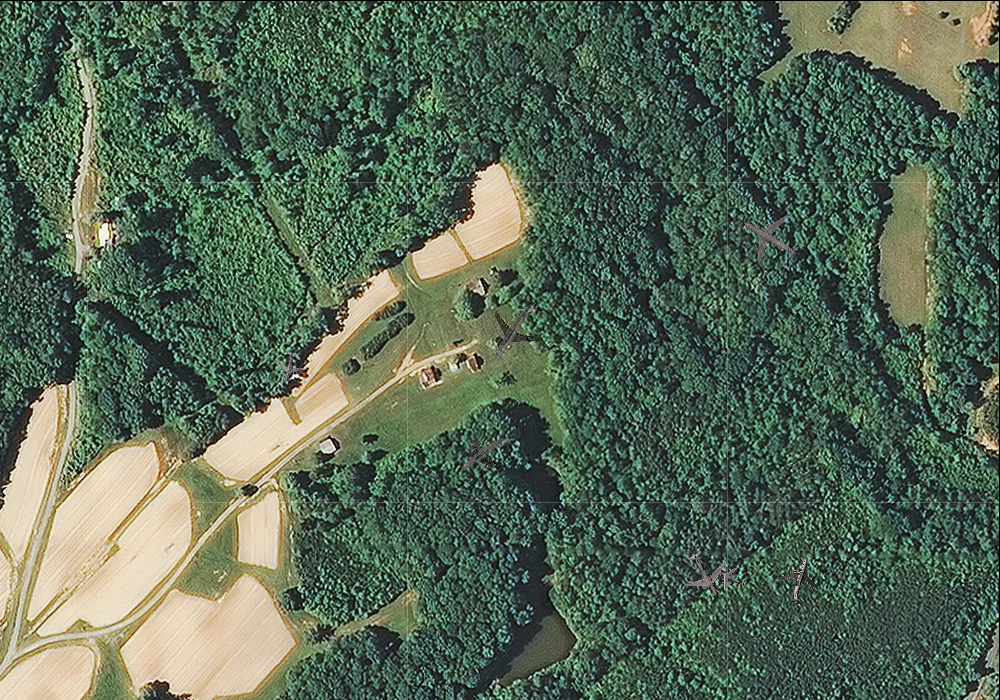plane: (472, 284, 561, 375), (729, 197, 813, 279), (446, 413, 528, 494), (673, 542, 739, 610), (772, 552, 829, 610), (709, 556, 752, 598), (271, 348, 306, 385)
